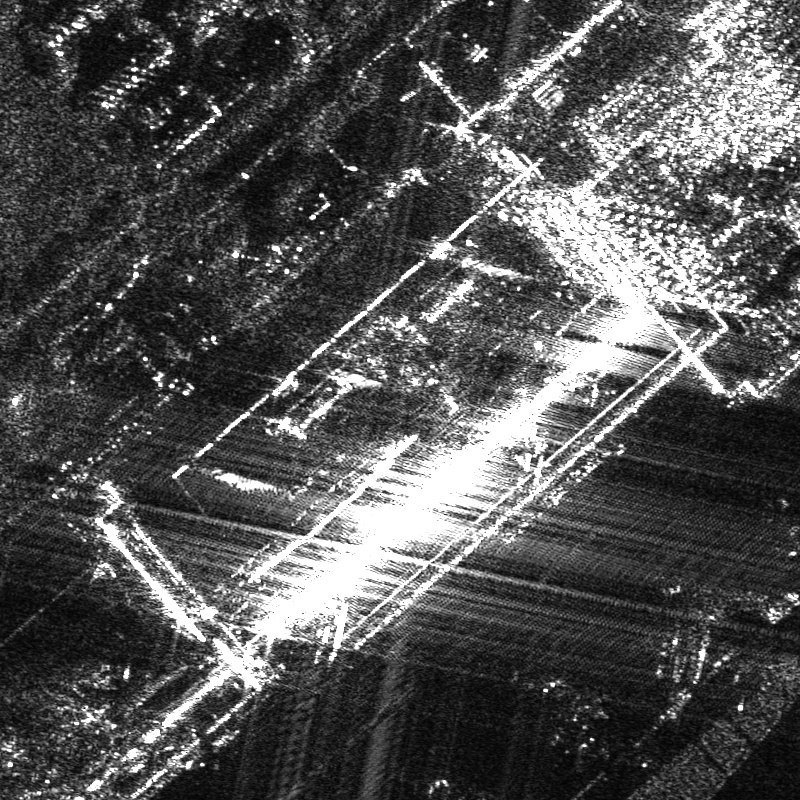Boeing737: (759, 491, 799, 564)
other: (532, 672, 624, 765)
